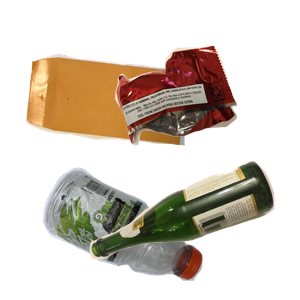glass: (87, 158, 300, 300)
paper: (23, 51, 206, 189)
plastic: (40, 165, 235, 300)
trash: (113, 43, 300, 181)
